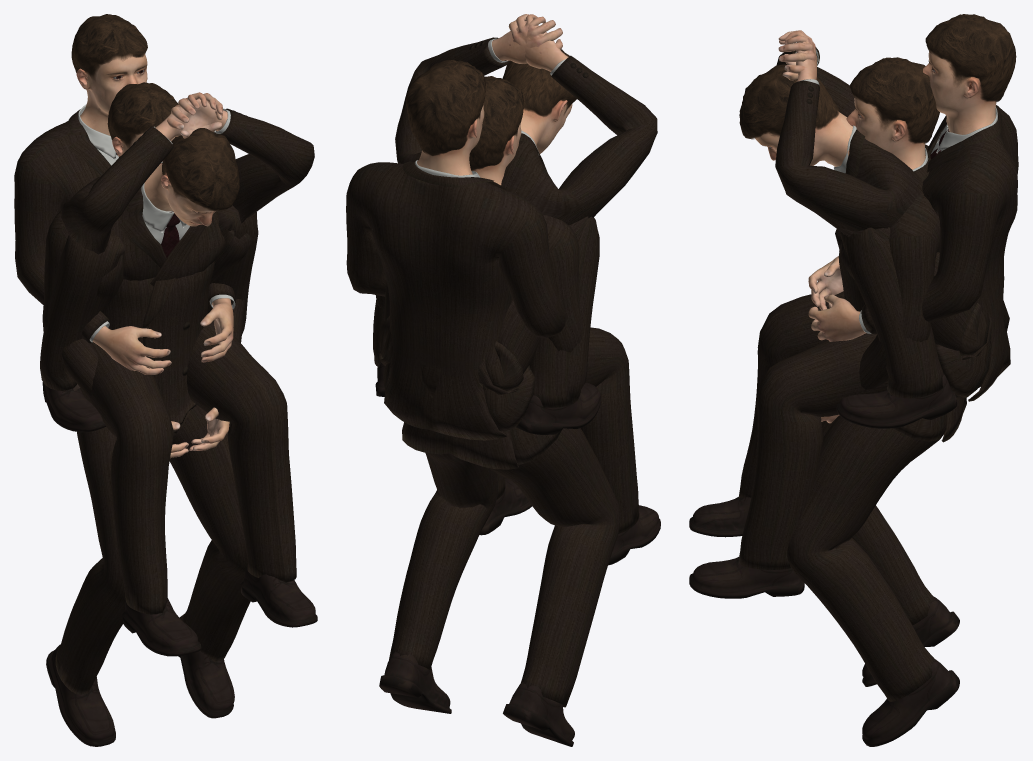
File: civ_mantel.glb
3 views of the same model, side by side, from view 1: azimuth 30°, elevation 25°; view 2: azimuth 150°, elevation 25°; view 3: azimuth 270°, elevation 25° (orthographic). The views are drawn at different scales.
Visible parts, largest first — view 1: seat, lie, cower; view 2: seat, lie, cower; view 3: seat, lie, cower.
Boxes of the visible parts, left/top/right/bottom form: seat: left=14, top=14, right=317, bottom=656; lie: left=42, top=82, right=250, bottom=746; cower: left=40, top=92, right=314, bottom=432; seat: left=346, top=60, right=660, bottom=565; lie: left=376, top=76, right=620, bottom=746; cower: left=373, top=14, right=657, bottom=434; seat: left=689, top=14, right=1018, bottom=598; lie: left=787, top=57, right=966, bottom=746; cower: left=739, top=30, right=1009, bottom=428.
Bounding box in the file's own units: 0.6475 × 1.8 × 0.7749.
7 materials, 7 textured.
